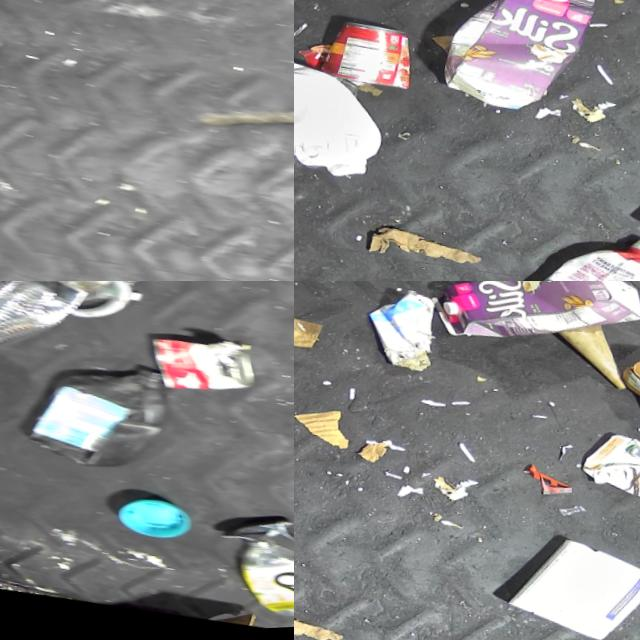can: (303, 8, 423, 97), (135, 332, 259, 409), (0, 281, 95, 371)
milk_jug: (294, 45, 397, 187)
non_white_jug: (10, 347, 172, 484), (417, 281, 640, 376), (572, 428, 640, 529)
